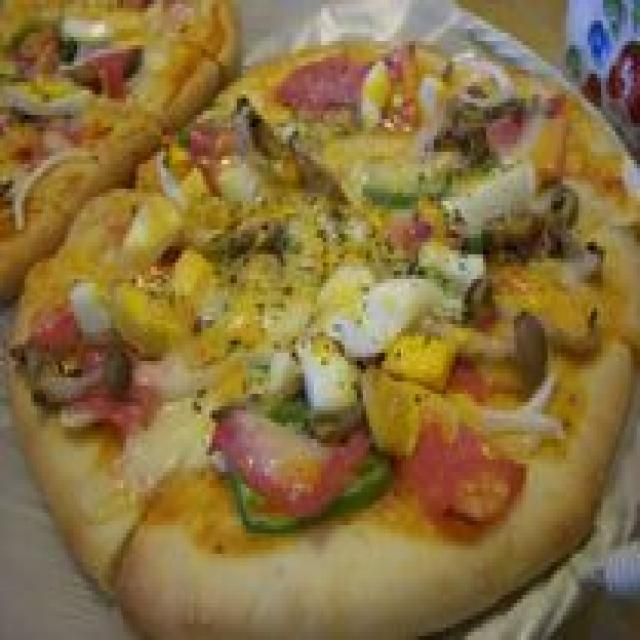汉堡快餐: (0, 28, 640, 640)
